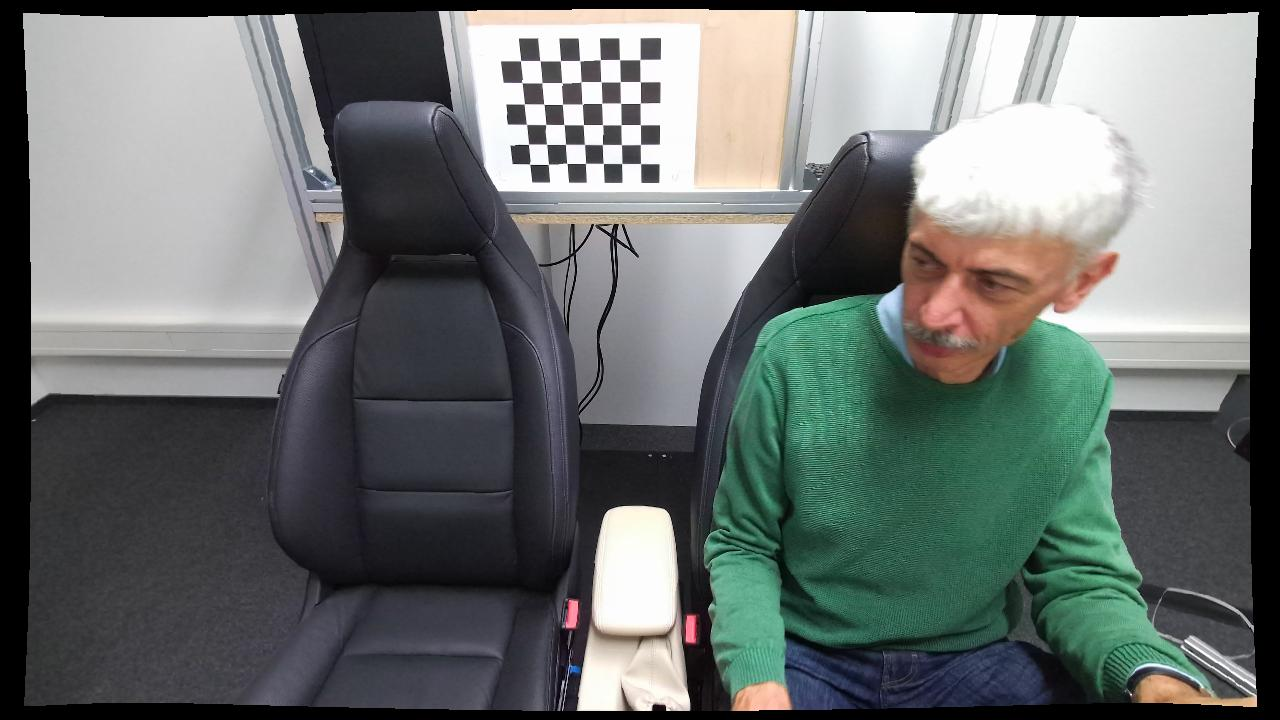Distracted: (695, 96, 1144, 704)
